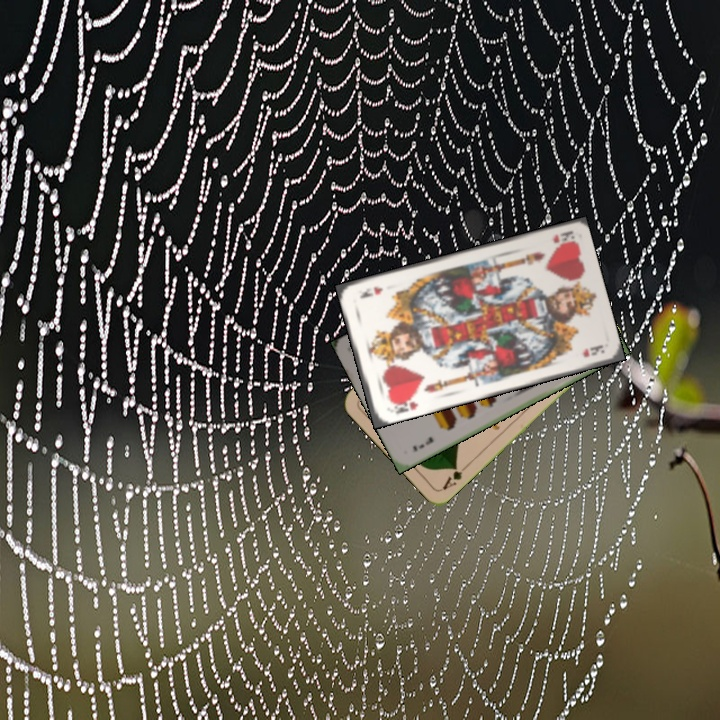E7: (409, 432, 436, 454)
GA: (438, 461, 470, 493)
HK: (386, 392, 421, 417), (549, 227, 575, 247)
